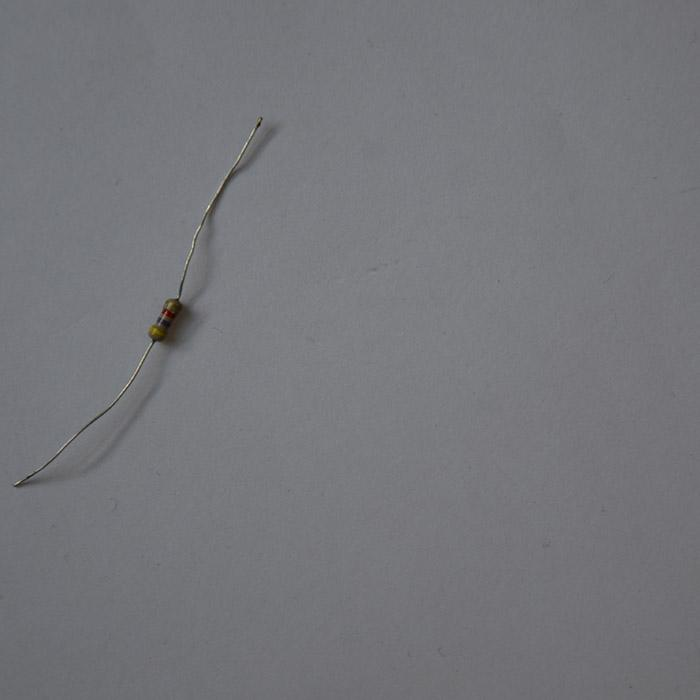resistor: (148, 297, 182, 342)
